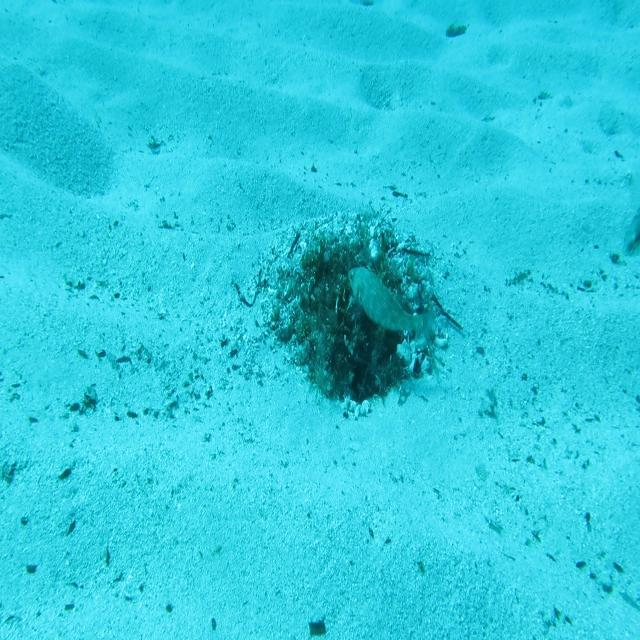FAN: (344, 261, 440, 356)
core_nest: (326, 256, 363, 284)
female: (619, 204, 640, 262)
nest: (248, 185, 461, 426)
vegetation: (444, 22, 469, 38), (307, 618, 329, 636)
